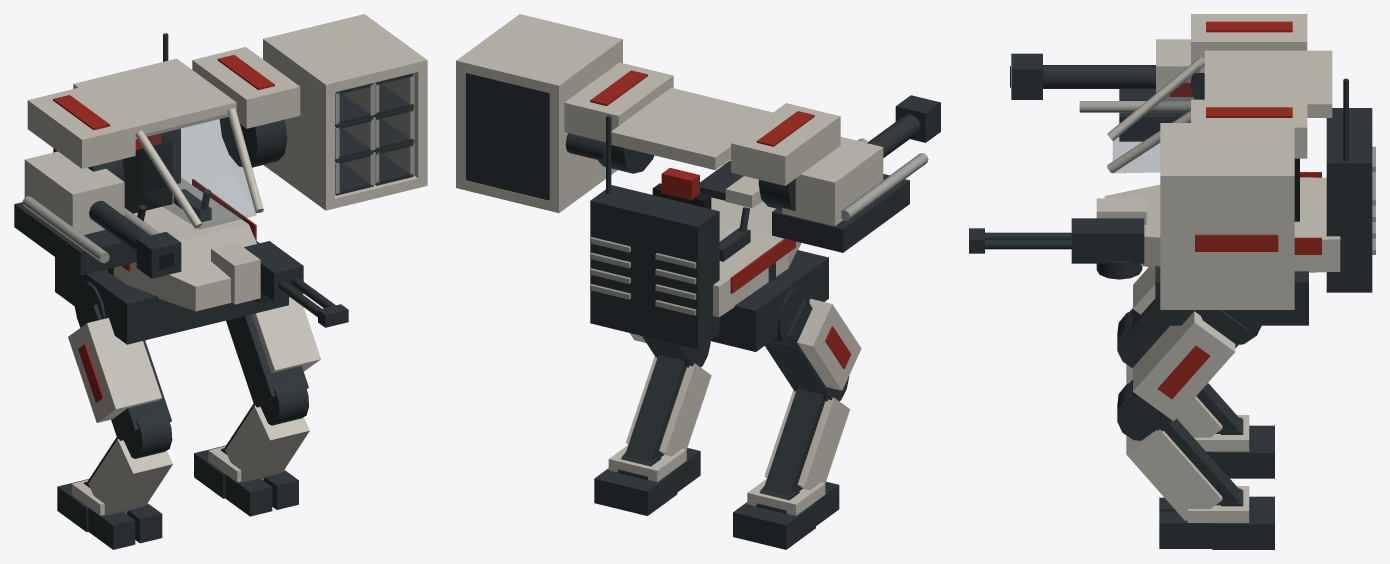
3 views of the same model, side by side, from view 1: azimuth 30°, elevation 25°; view 2: azimuth 150°, elevation 25°; view 3: azimuth 270°, elevation 25° (orthographic). The views are drawn at different scales.
Visible parts, largest first — view 1: mech-torso-painted, mech-silo-right-painted, mech-torso-glazing, mech-hip-0-painted, mech-cannon-recoil-painted, mech-hip-1-painted, mech-knee-0-painted, mech-knee-1-painted, mech-mg-pitch-chin-painted, mech-cannon-pitch-painted, mech-ankle-0-painted, mech-ankle-1-painted (+1 smaller); view 2: mech-torso-painted, mech-silo-right-painted, mech-cannon-recoil-painted, mech-hip-0-painted, mech-knee-1-painted, mech-knee-0-painted, mech-cannon-pitch-painted, mech-ankle-1-painted, mech-ankle-0-painted, mech-seat-pilot-painted, mech-mg-pitch-chin-painted, mech-hip-1-painted; view 3: mech-torso-painted, mech-silo-right-painted, mech-hip-1-painted, mech-knee-1-painted, mech-mg-pitch-chin-painted, mech-cannon-recoil-painted, mech-ankle-1-painted, mech-ankle-0-painted, mech-torso-glazing, mech-knee-0-painted, mech-cannon-pitch-painted, mech-hip-0-painted (+1 smaller).
Boxes of the visible parts, box(x1,y1,x2,y2) form: mech-torso-painted: box(27, 33, 300, 344); mech-silo-right-painted: box(263, 14, 427, 210); mech-torso-glazing: box(142, 114, 256, 228); mech-hip-0-painted: box(68, 281, 171, 440); mech-cannon-recoil-painted: box(24, 151, 181, 278); mech-hip-1-painted: box(226, 297, 320, 407); mech-knee-0-painted: box(87, 412, 172, 515); mech-knee-1-painted: box(224, 379, 309, 482); mech-mg-pitch-chin-painted: box(211, 241, 348, 327); mech-cannon-pitch-painted: box(14, 196, 159, 275); mech-ankle-0-painted: box(57, 479, 162, 549); mech-ankle-1-painted: box(194, 445, 298, 516); mech-torso-painted: box(564, 62, 840, 351); mech-silo-right-painted: box(456, 14, 622, 212); mech-cannon-recoil-painted: box(782, 95, 940, 226); mech-hip-0-painted: box(765, 287, 861, 400); mech-knee-1-painted: box(625, 341, 711, 462); mech-knee-0-painted: box(763, 376, 850, 496); mech-cannon-pitch-painted: box(772, 138, 928, 252); mech-ankle-1-painted: box(594, 445, 700, 515); mech-ankle-0-painted: box(733, 479, 839, 549); mech-seat-pilot-painted: box(652, 168, 750, 261); mech-mg-pitch-chin-painted: box(700, 161, 762, 207); mech-hip-1-painted: box(630, 333, 703, 366); mech-torso-painted: box(1104, 14, 1375, 325); mech-silo-right-painted: box(1160, 123, 1294, 309); mech-hip-1-painted: box(1125, 310, 1263, 430); mech-knee-1-painted: box(1117, 382, 1239, 520); mech-mg-pitch-chin-painted: box(969, 198, 1146, 263); mech-cannon-recoil-painted: box(1010, 39, 1194, 100); mech-ankle-1-painted: box(1159, 486, 1274, 549); mech-ankle-0-painted: box(1194, 415, 1274, 478); mech-torso-glazing: box(1113, 64, 1199, 172); mech-knee-0-painted: box(1117, 311, 1239, 437); mech-cannon-pitch-painted: box(1079, 89, 1190, 141); mech-hip-0-painted: box(1125, 267, 1169, 351).
Bounding box in the file's own units: 22.31 × 24.21 × 20.04.
